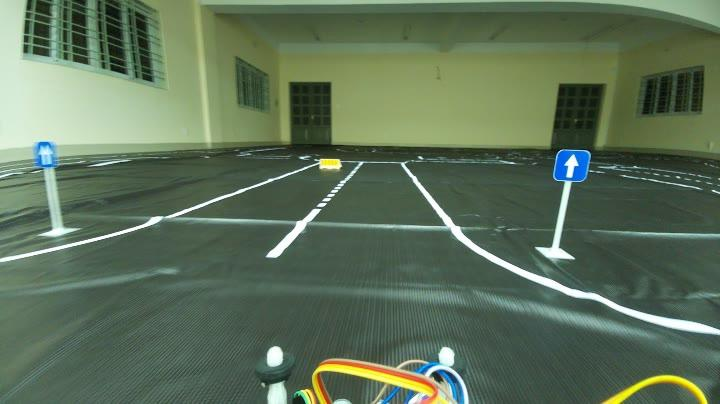onewayroad: (550, 144, 590, 190), (31, 142, 64, 162)
roadblock: (317, 154, 348, 174)
